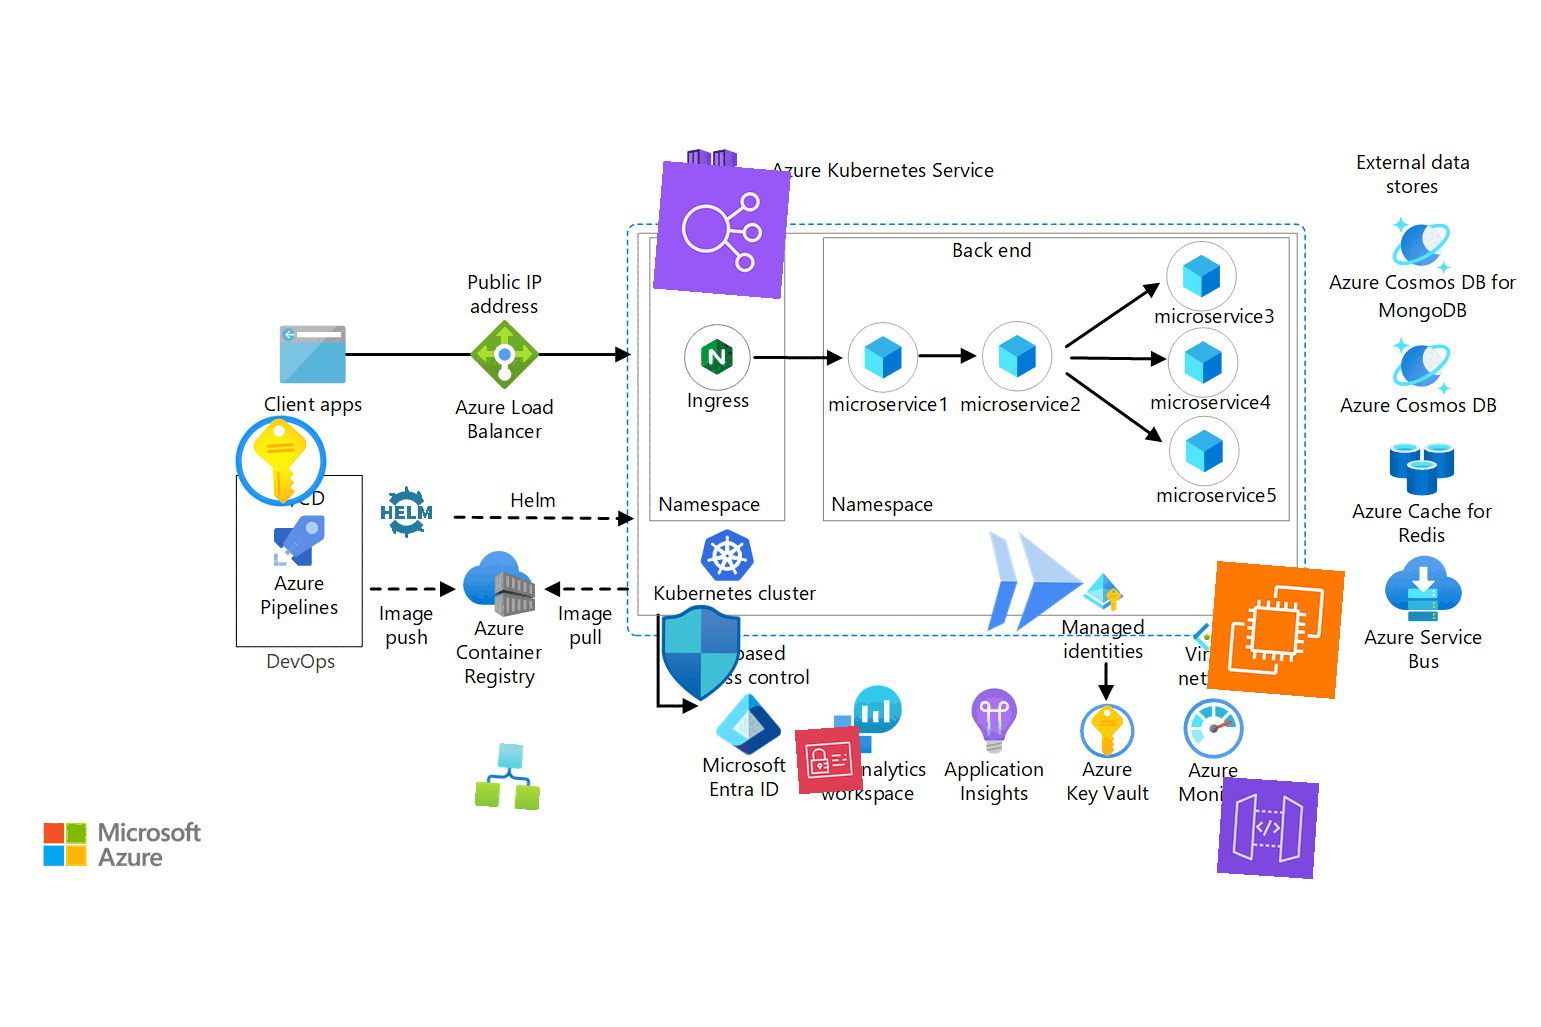aws_amazon_api_gateway: (1216, 776, 1320, 880)
aws_amazon_ec2: (1206, 560, 1345, 699)
aws_elastic_load_balancing: (652, 160, 792, 300)
aws_identity_and_access_management: (794, 726, 864, 795)
azure_key_vaults: (230, 410, 332, 512)
azure_logic_apps: (474, 740, 544, 812)
azure_network_security_groups: (652, 604, 750, 701)
gcp_cloud_run: (968, 516, 1100, 648)
